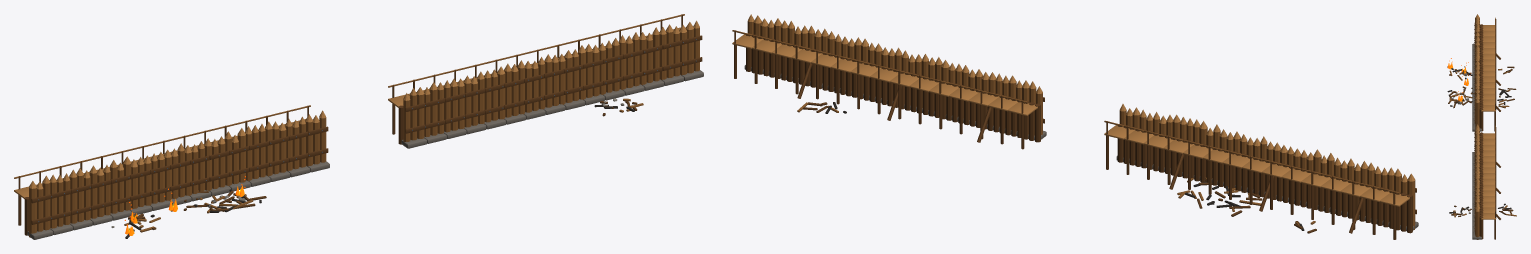
File: mur_front_etap2.glb
3 views of the same model, side by side, from view 1: azimuth 30°, elevation 25°; view 2: azimuth 150°, elevation 25°; view 3: azimuth 270°, elevation 25° (orthographic). The views are drawn at different scales.
Parts seen in each view (by area): view 1: mur_front_etap2; view 2: mur_front_etap2; view 3: mur_front_etap2.
Part boxes in pixels (x1,y1,x2,y2): mur_front_etap2: (14,14,703,239); mur_front_etap2: (732,14,1418,239); mur_front_etap2: (1447,14,1516,239).
Size of the model in its own units: 52.09 by 4.48 by 7.9.
